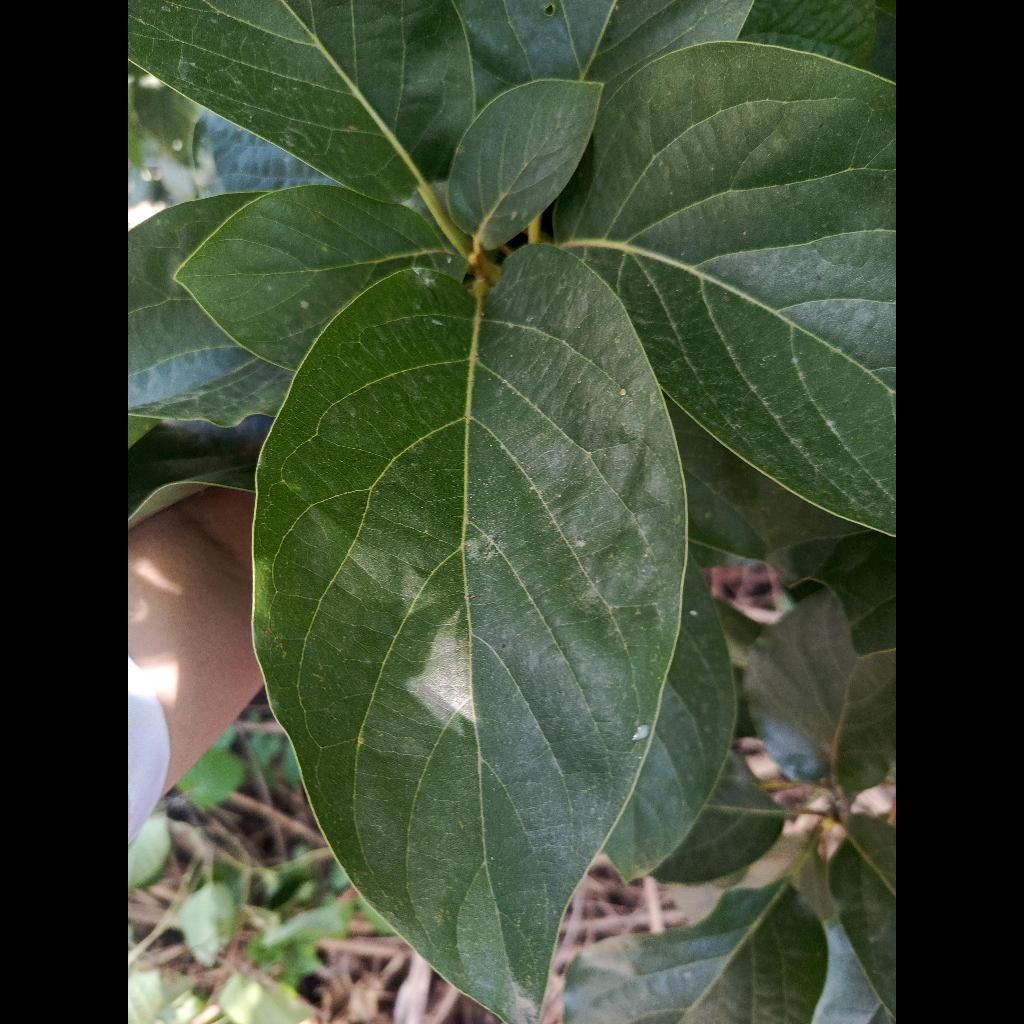Healthy: (254, 245, 685, 1024), (555, 42, 896, 534), (176, 185, 463, 369), (448, 79, 602, 249)
